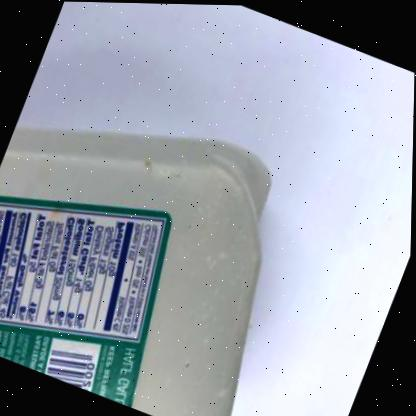Plastic: (0, 126, 270, 416)
